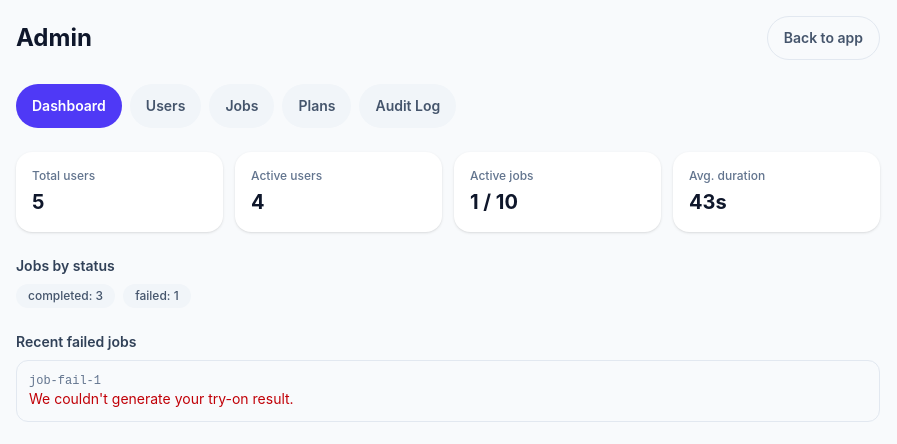
Test case: AdminScreen — users tab › renders each user's email/plan/admin/active status, unlabelled table cells match
The width and height of the screenshot is (897, 444).
Click the button "users".
click(166, 106)  # box [130,84,201,128]
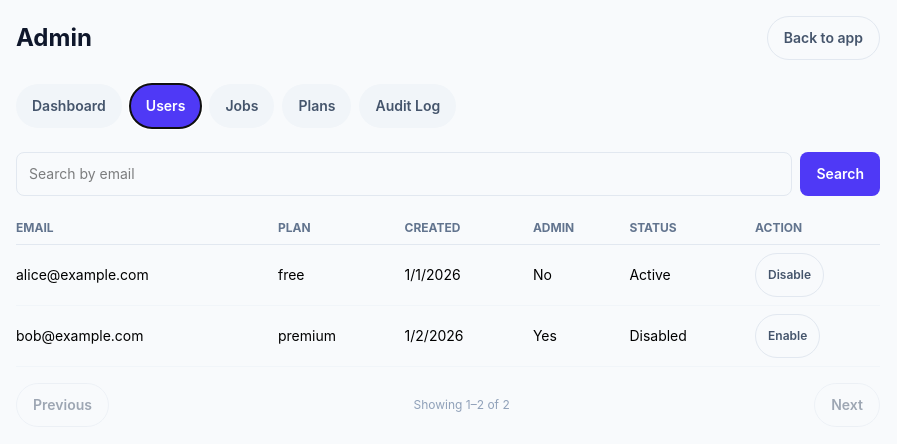
Expected: the text "alice@example.com" is shown, [16,244,278,306]
Expected: the text "bob@example.com" is shown, [16,306,278,366]
Expected: the text "premium" is shown, [278,306,405,366]
